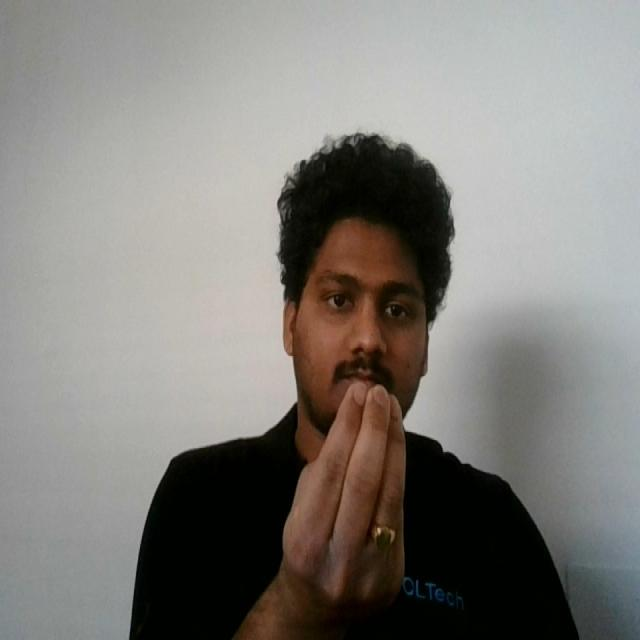Please: (272, 370, 415, 640)
